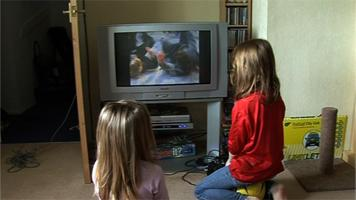person: (194, 38, 288, 199)
